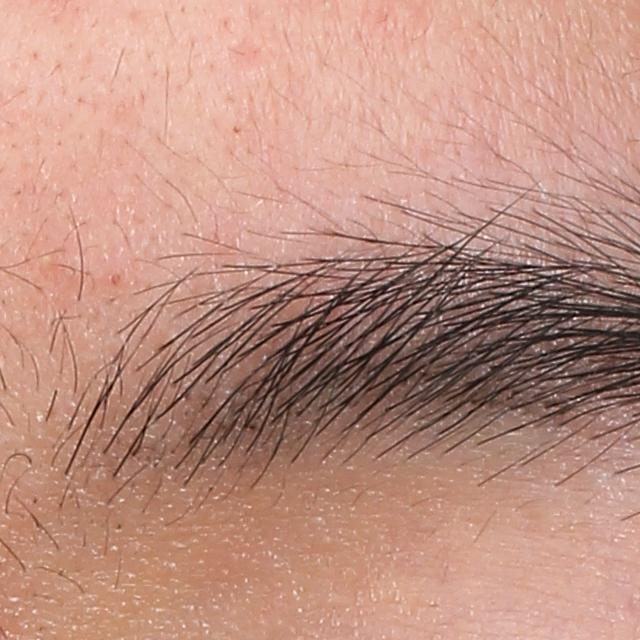comedo: (106, 267, 127, 287)
